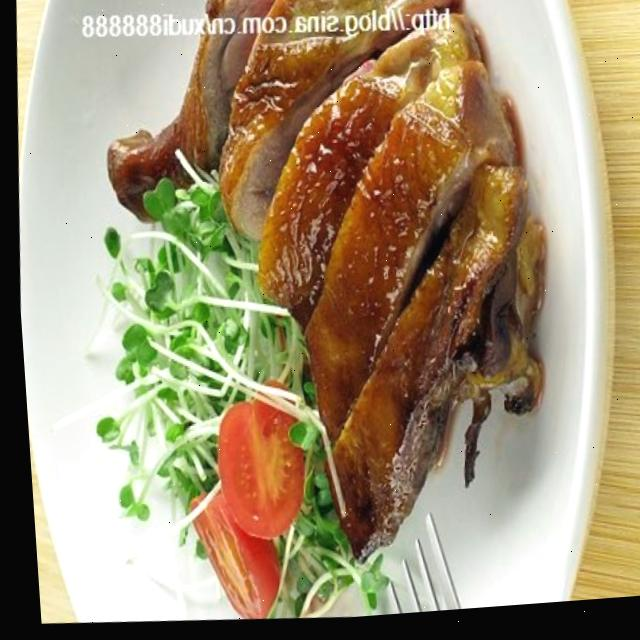烧串烤肉: (41, 0, 593, 628)
